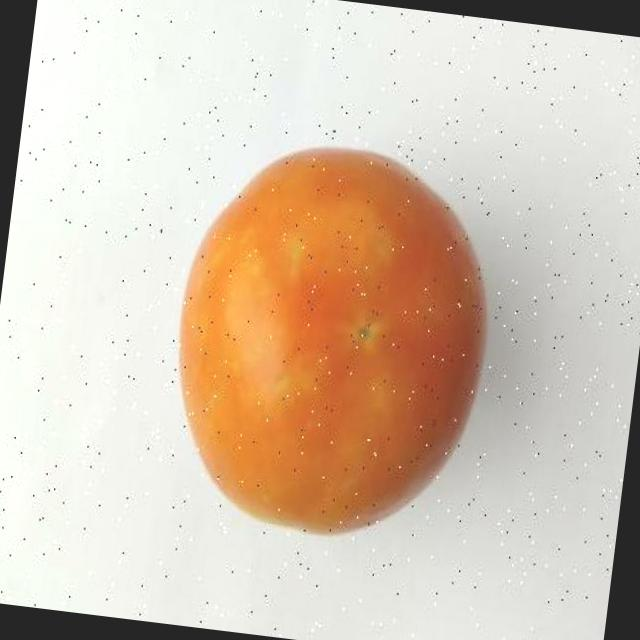tomato: (180, 148, 490, 537)
